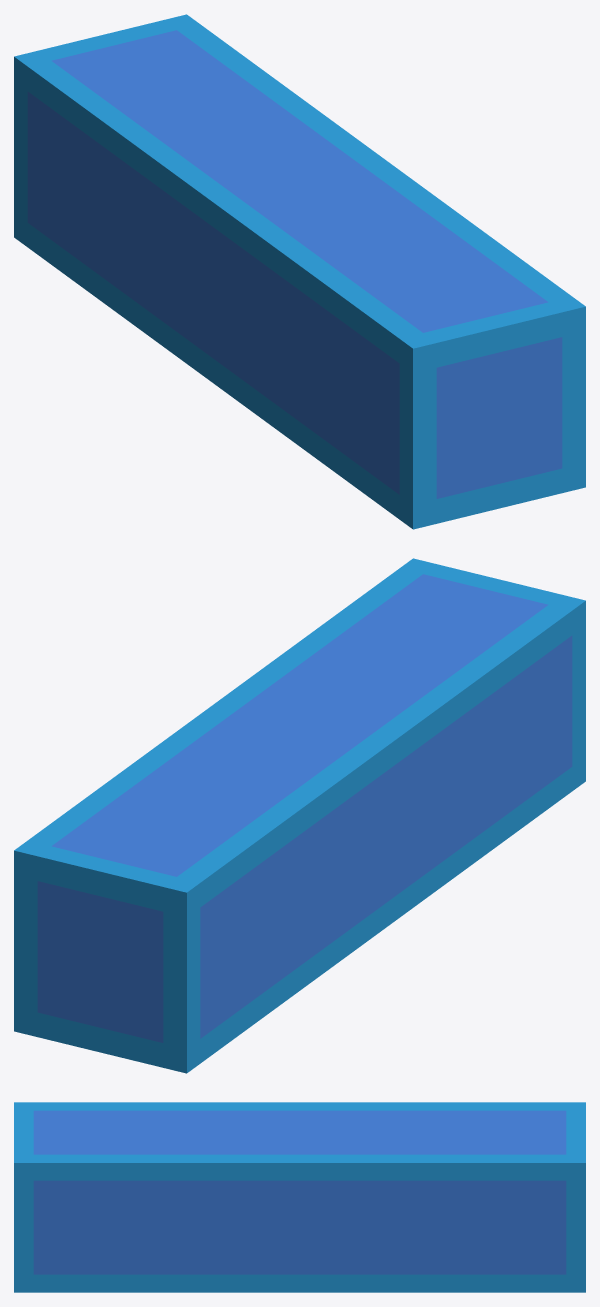
Rendered from tap-block.glb.
The picture shows the model from 3 angles, top to bottom: view 1: azimuth 30°, elevation 25°; view 2: azimuth 150°, elevation 25°; view 3: azimuth 270°, elevation 25°; orthographic projection. The views are drawn at different scales.
Parts seen in each view (by area): view 1: Cube.001, Cube; view 2: Cube.001, Cube; view 3: Cube.001, Cube.
Part boxes in pixels (box(x1,y1,x2,y2)): Cube.001: box(27, 30, 562, 498); Cube: box(14, 14, 585, 529); Cube.001: box(37, 574, 572, 1042); Cube: box(14, 558, 585, 1073); Cube.001: box(33, 1110, 566, 1274); Cube: box(14, 1102, 585, 1292).
Size of the model in its own units: 1 by 1 by 4.
